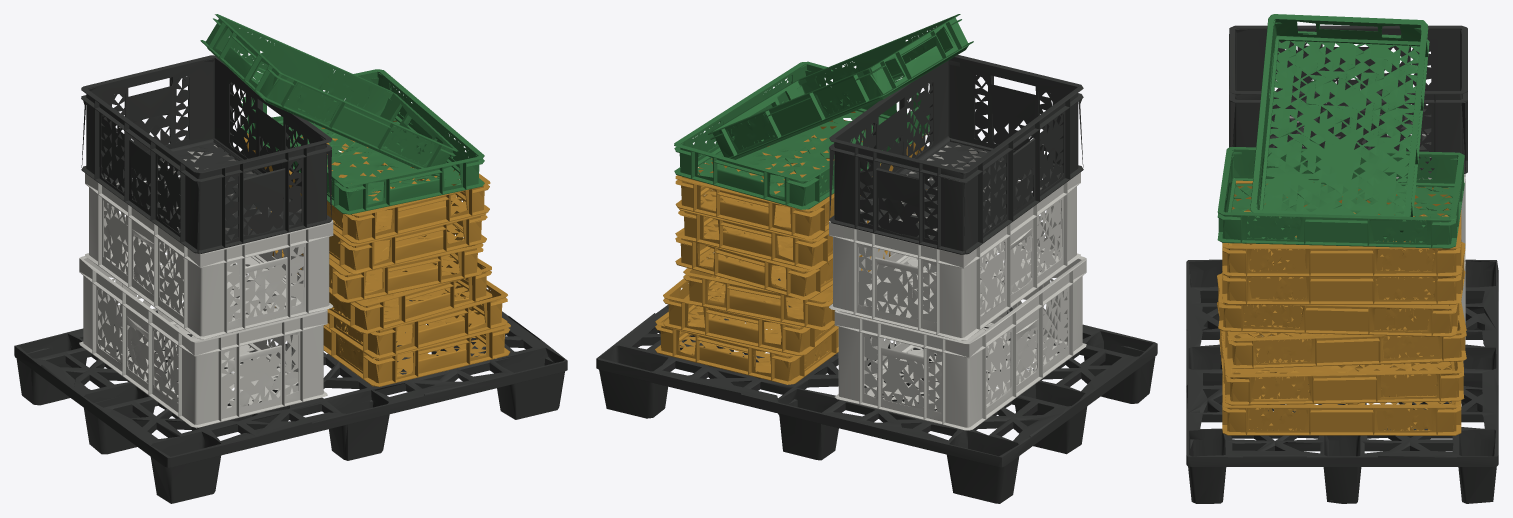
The model's file is pallet_crates.glb.
The picture shows the model from 3 angles, left to right: view 1: azimuth 30°, elevation 25°; view 2: azimuth 150°, elevation 25°; view 3: azimuth 270°, elevation 25°; orthographic projection.
Visible parts, largest first — view 1: pallet_crates_mesh; view 2: pallet_crates_mesh; view 3: pallet_crates_mesh.
Part boxes in pixels (box(x1,y1,x2,y2)): pallet_crates_mesh: box(14, 14, 567, 503); pallet_crates_mesh: box(596, 14, 1157, 503); pallet_crates_mesh: box(1186, 14, 1498, 503).
Size of the model in its own units: 1.2 by 1.05 by 0.8001.
